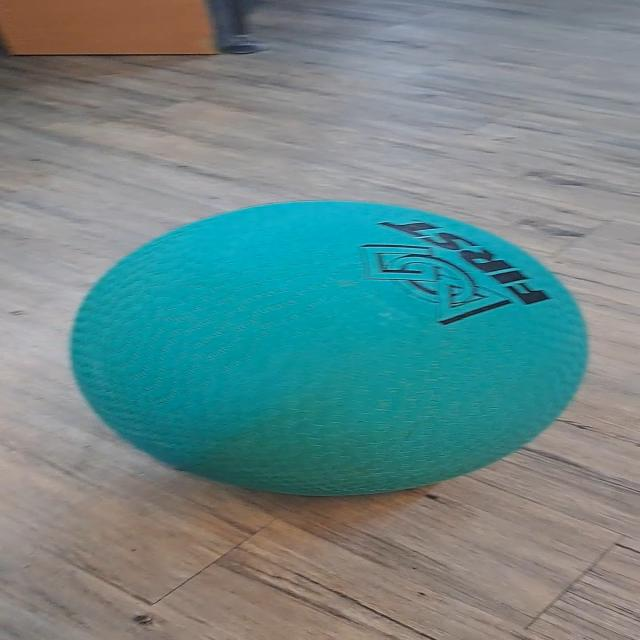ALGAE: (67, 198, 590, 498)
